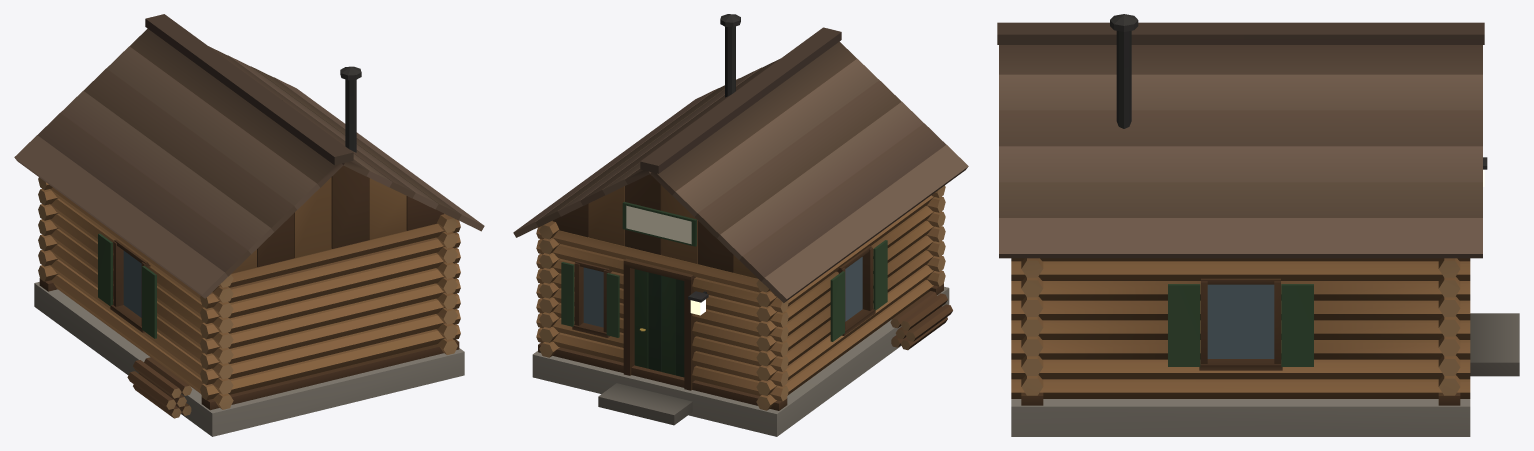
The model's file is camp_office_low.glb.
The picture shows the model from 3 angles, left to right: view 1: azimuth 30°, elevation 25°; view 2: azimuth 150°, elevation 25°; view 3: azimuth 270°, elevation 25°; orthographic projection. The views are drawn at different scales.
Visible parts, largest first — view 1: camp_office; view 2: camp_office, office_plate; view 3: camp_office.
Part boxes in pixels (box(x1,y1,x2,y2)): camp_office: box(14, 14, 484, 436); camp_office: box(513, 14, 968, 436); office_plate: box(626, 205, 691, 244); camp_office: box(997, 14, 1519, 436).
Size of the model in its own units: 5.21 by 5 by 6.26.
